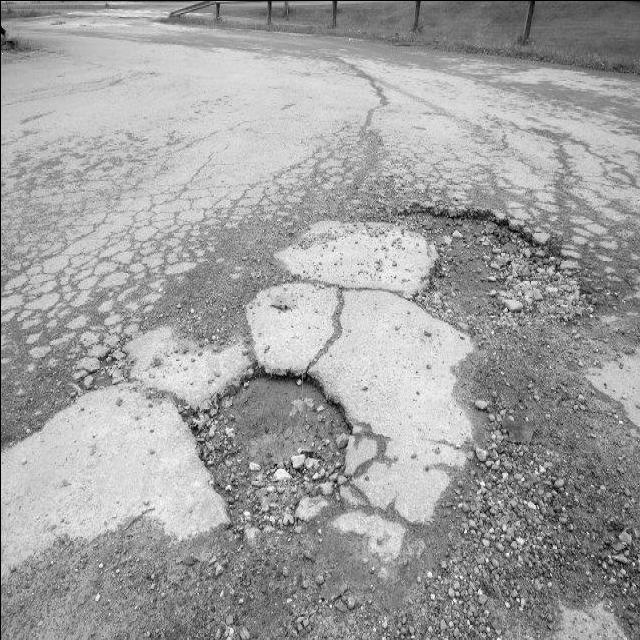jalan retak: (0, 152, 254, 362), (237, 111, 391, 232), (0, 88, 242, 162), (520, 91, 640, 200), (370, 103, 526, 177), (563, 177, 637, 286), (352, 420, 418, 521), (427, 154, 569, 200), (300, 274, 362, 364), (284, 270, 412, 302), (338, 56, 393, 126), (125, 367, 193, 411), (89, 58, 160, 96)
lubang: (422, 375, 638, 640), (369, 184, 626, 374), (0, 536, 366, 640), (191, 357, 374, 539), (64, 322, 152, 399), (0, 29, 63, 73)
